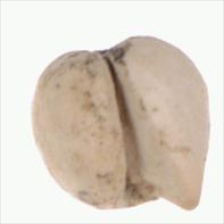L3: (117, 176, 196, 215)
L4: (31, 36, 210, 211)
